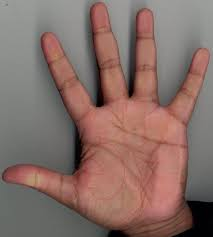hand: (5, 2, 209, 219)
